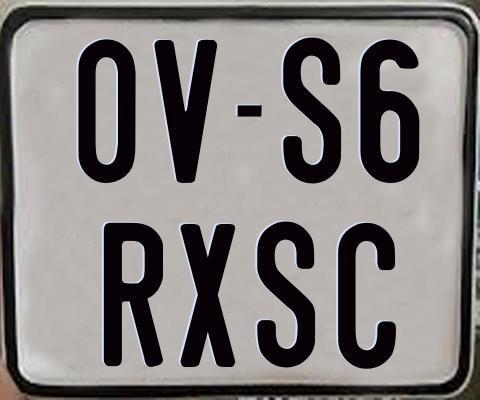0: (75, 38, 136, 186)
6: (358, 37, 419, 183)
C: (337, 220, 399, 368)
R: (103, 221, 164, 368)
S: (254, 221, 317, 372), (281, 36, 341, 185)
V: (153, 39, 218, 187)
X: (178, 224, 234, 367)
